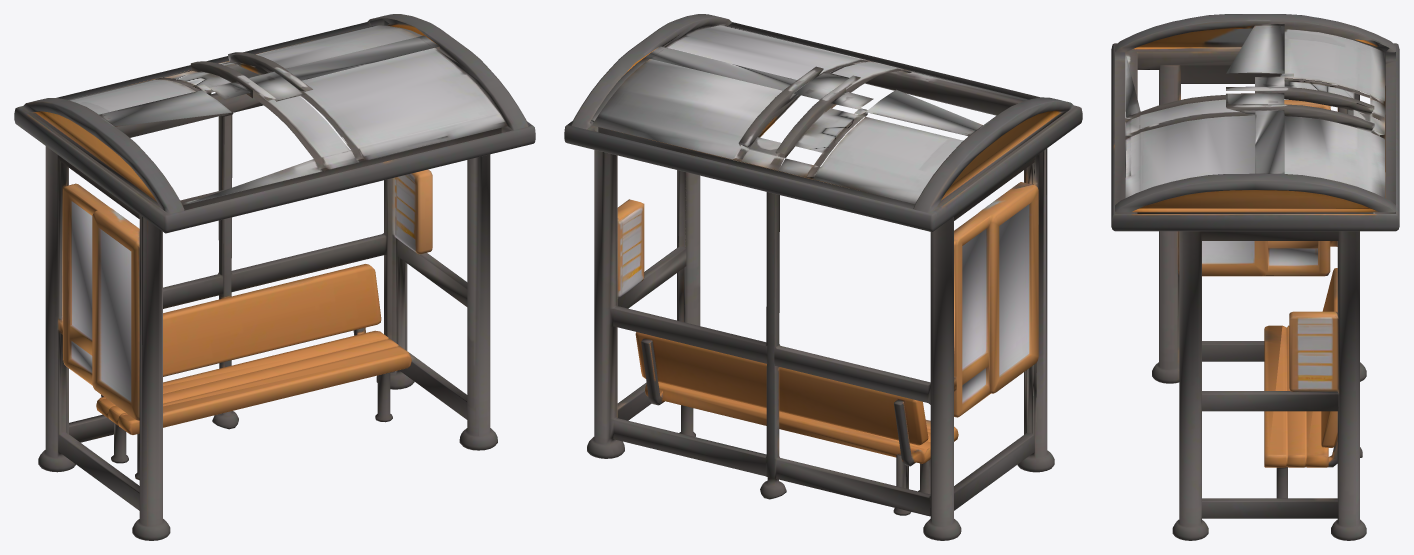
File: Urban__a_bus_shelter_9fe53af3_v2.cluster.glb
3 renders of one model, left to right at view 1: azimuth 30°, elevation 25°; view 2: azimuth 150°, elevation 25°; view 3: azimuth 270°, elevation 25°, orthographic. The views are drawn at different scales.
Visible parts, largest first — view 1: material; view 2: material; view 3: material.
Part boxes in pixels (x1,y1,x2,y2): material: (14, 14, 535, 540); material: (564, 14, 1082, 540); material: (1111, 14, 1399, 540).
Size of the model in its own units: 1.9 by 1.84 by 1.34.
Materials: 1 (1 with a texture image).
